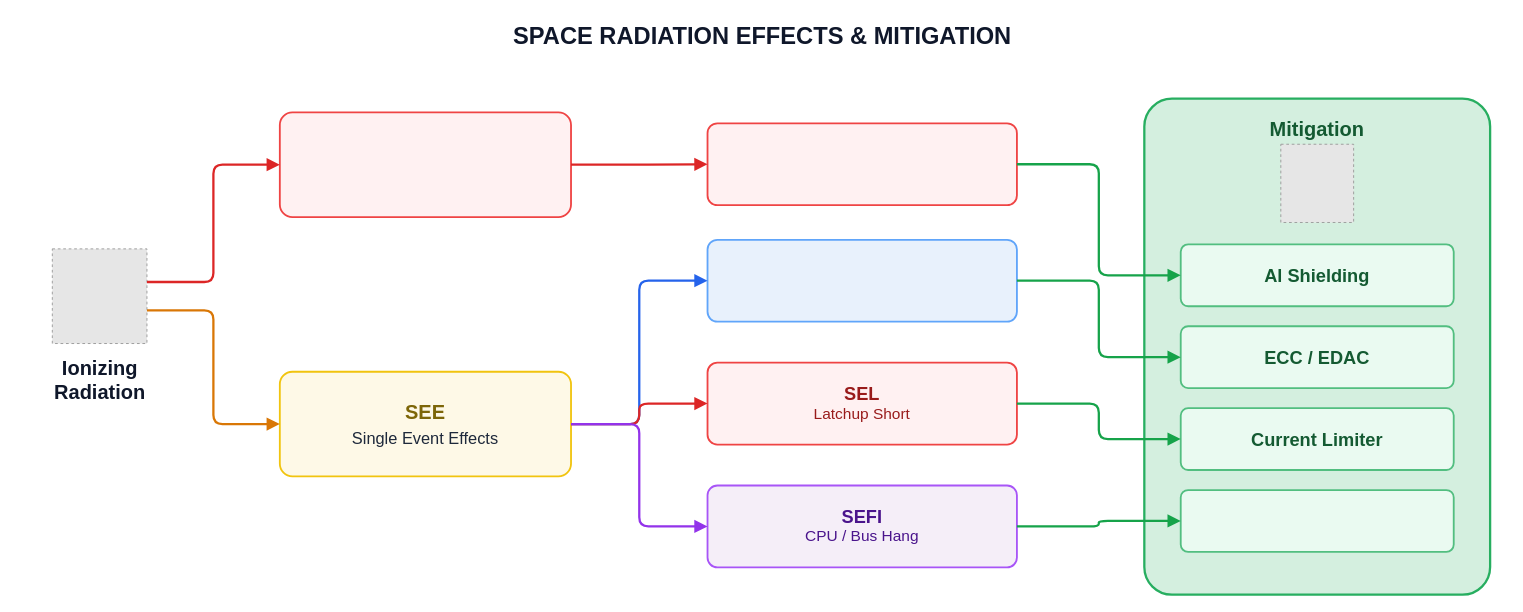
Some shapes in this 1523 by 612 pixel diagram are drawn without their labels. Grey dashed boxes stand in for pictures. The shapes that lost their labels are listed below. From the top down, each one's centre as x and y in pixels, then its label:
(424,164): TID Total Ionizing Dose
(861,164): Threshold Drift
(861,280): SEU Bit Flip (RAM)
(1316,520): Watchdog Reset
